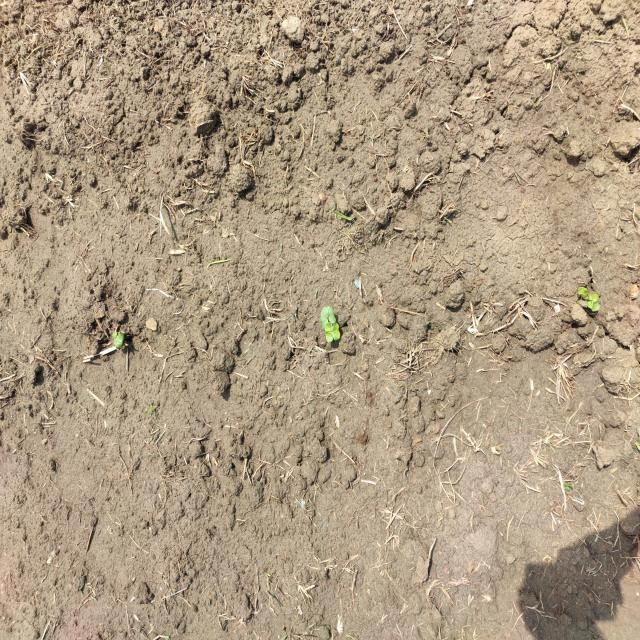seedling: (585, 299, 600, 312), (321, 307, 329, 329), (325, 322, 333, 343), (327, 306, 336, 324), (115, 333, 125, 348), (332, 323, 340, 340), (578, 287, 589, 297), (589, 294, 599, 302), (112, 331, 117, 345)
